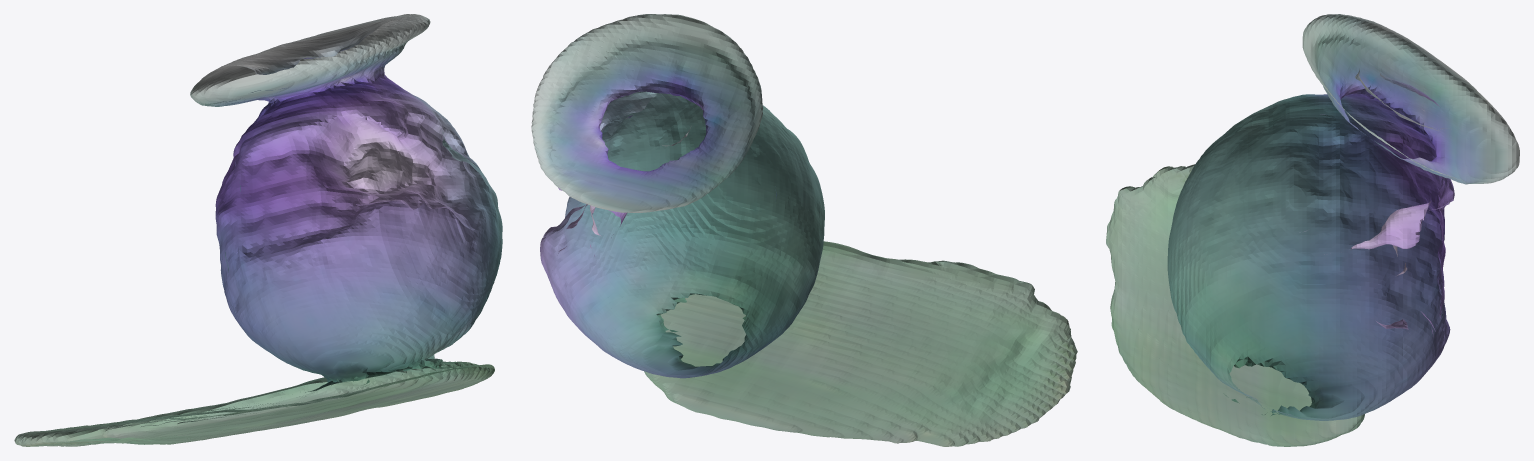
3 renders of one model, left to right at view 1: azimuth 30°, elevation 25°; view 2: azimuth 150°, elevation 25°; view 3: azimuth 270°, elevation 25°, orthographic. The views are drawn at different scales.
Visible parts, largest first — view 1: geometry_0; view 2: geometry_0; view 3: geometry_0.
Boxes of the visible parts, x1,y1,x2,y2 form: geometry_0: (14,14,502,446); geometry_0: (531,14,1077,446); geometry_0: (1106,14,1519,446).
Bounding box in the file's own units: 1.6 × 1.19 × 1.11.
